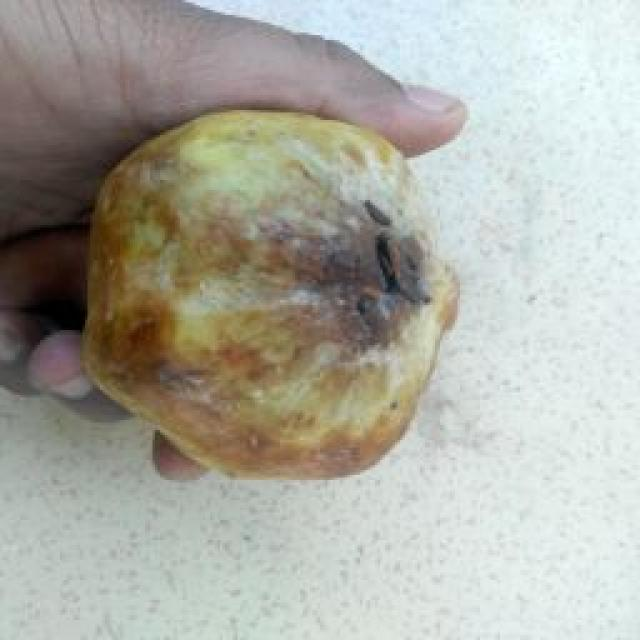Bad_Guava: (85, 112, 455, 478)
